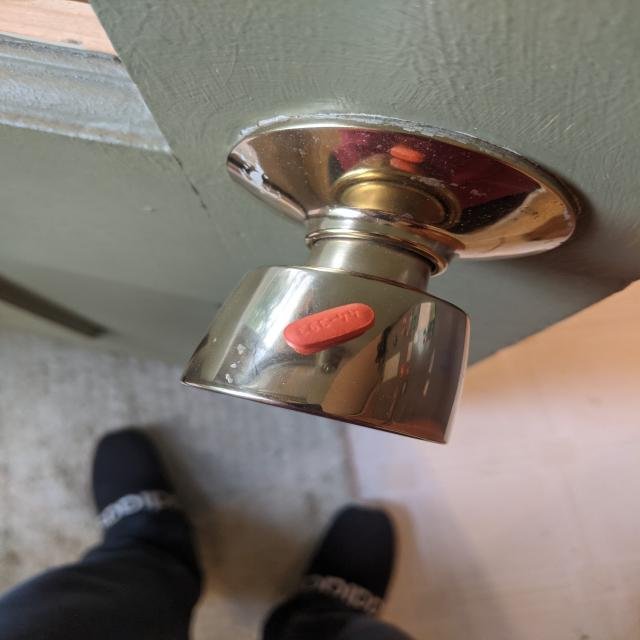non-organic waste: (282, 302, 376, 351)
